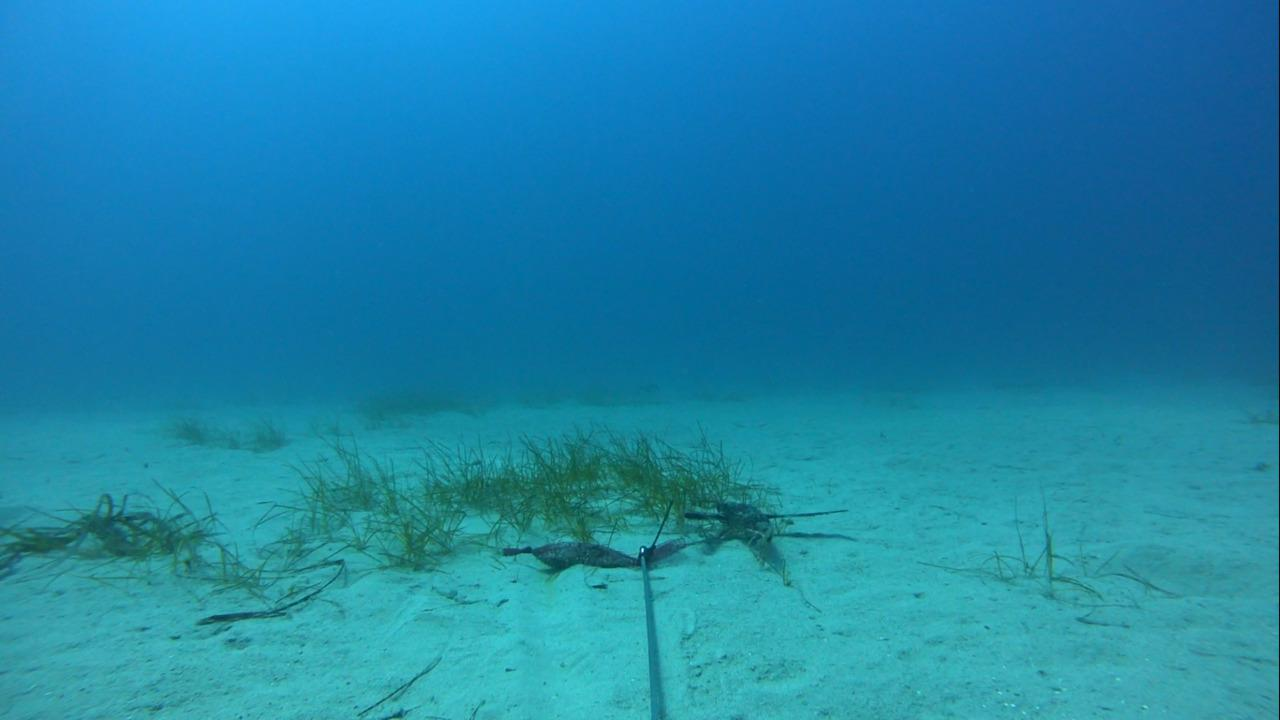dactylopterus: (677, 490, 852, 556)
